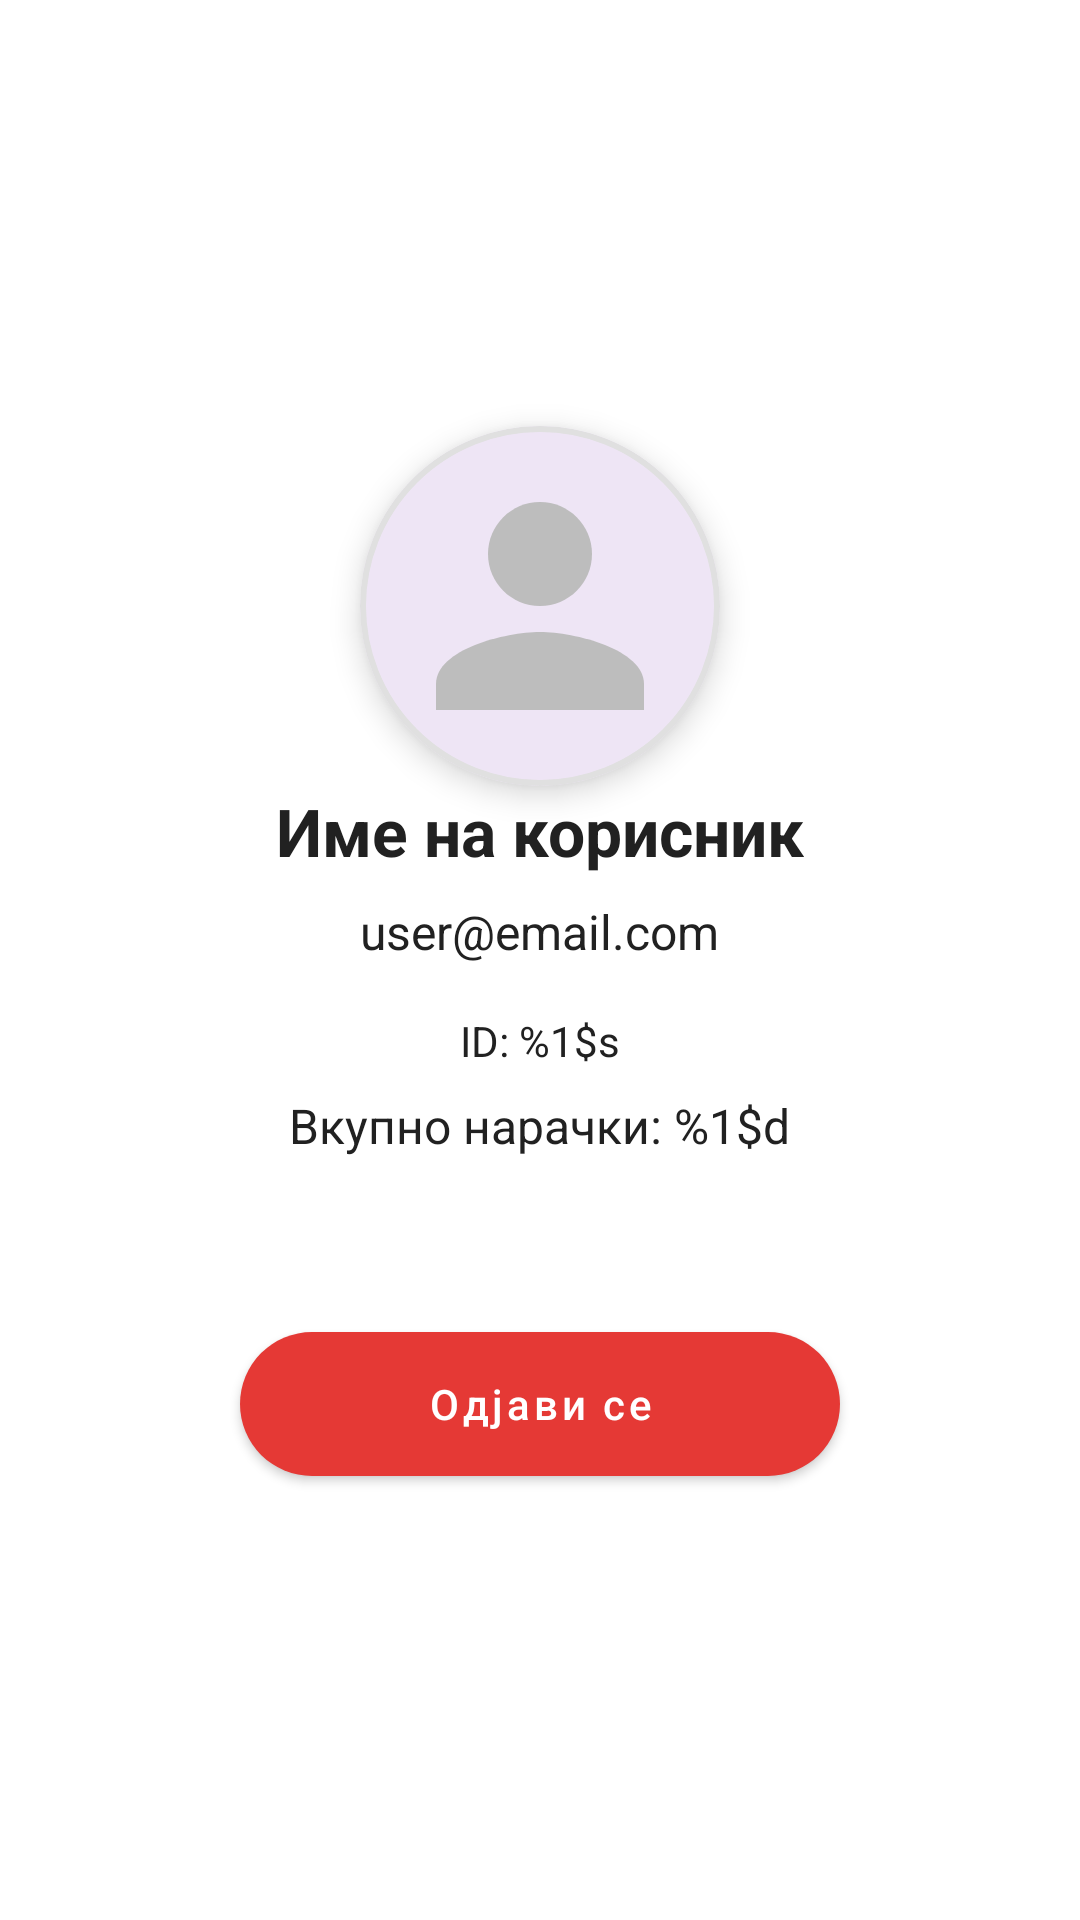

Where to tap for icons on this 1080×1920 app screen, as (x=x, y=y):
Слика на профил: (x=540, y=606)
